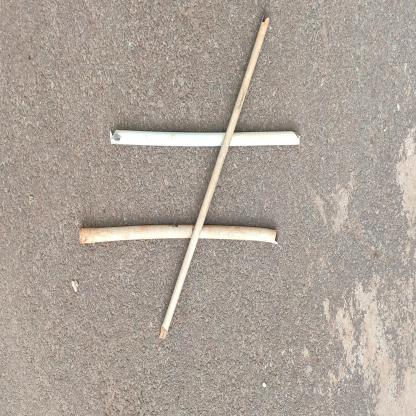PVC: (79, 18, 302, 343)
